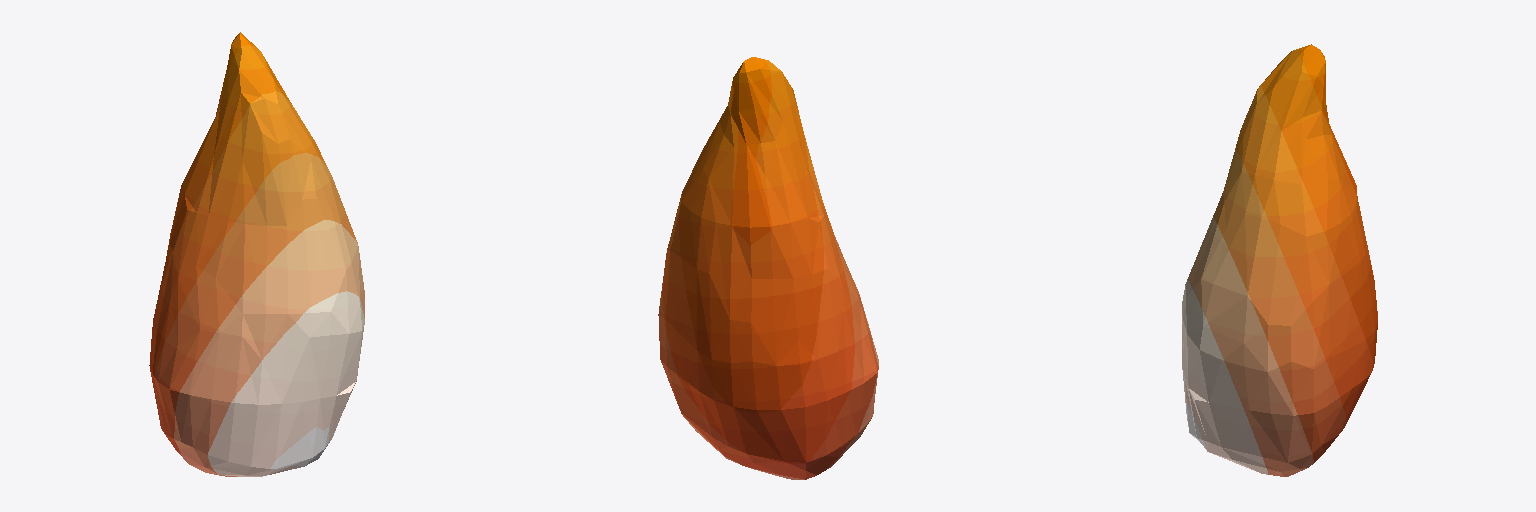
The picture shows the model from 3 angles: view 1: azimuth 30°, elevation 25°; view 2: azimuth 150°, elevation 25°; view 3: azimuth 270°, elevation 25°; orthographic projection.
Parts seen in each view (by area): view 1: sphere_CopyFBXASC045retopoFBXASC0321FBXASC045reduced4FBXASC045re; view 2: sphere_CopyFBXASC045retopoFBXASC0321FBXASC045reduced4FBXASC045re; view 3: sphere_CopyFBXASC045retopoFBXASC0321FBXASC045reduced4FBXASC045re.
Part boxes in pixels (bbox=[...]): sphere_CopyFBXASC045retopoFBXASC0321FBXASC045reduced4FBXASC045re: bbox=[149, 32, 364, 476]; sphere_CopyFBXASC045retopoFBXASC0321FBXASC045reduced4FBXASC045re: bbox=[658, 57, 878, 479]; sphere_CopyFBXASC045retopoFBXASC0321FBXASC045reduced4FBXASC045re: bbox=[1182, 44, 1377, 476].
Size of the model in its own units: 0.8713 by 1.79 by 0.7549.
1 materials, 1 textured.